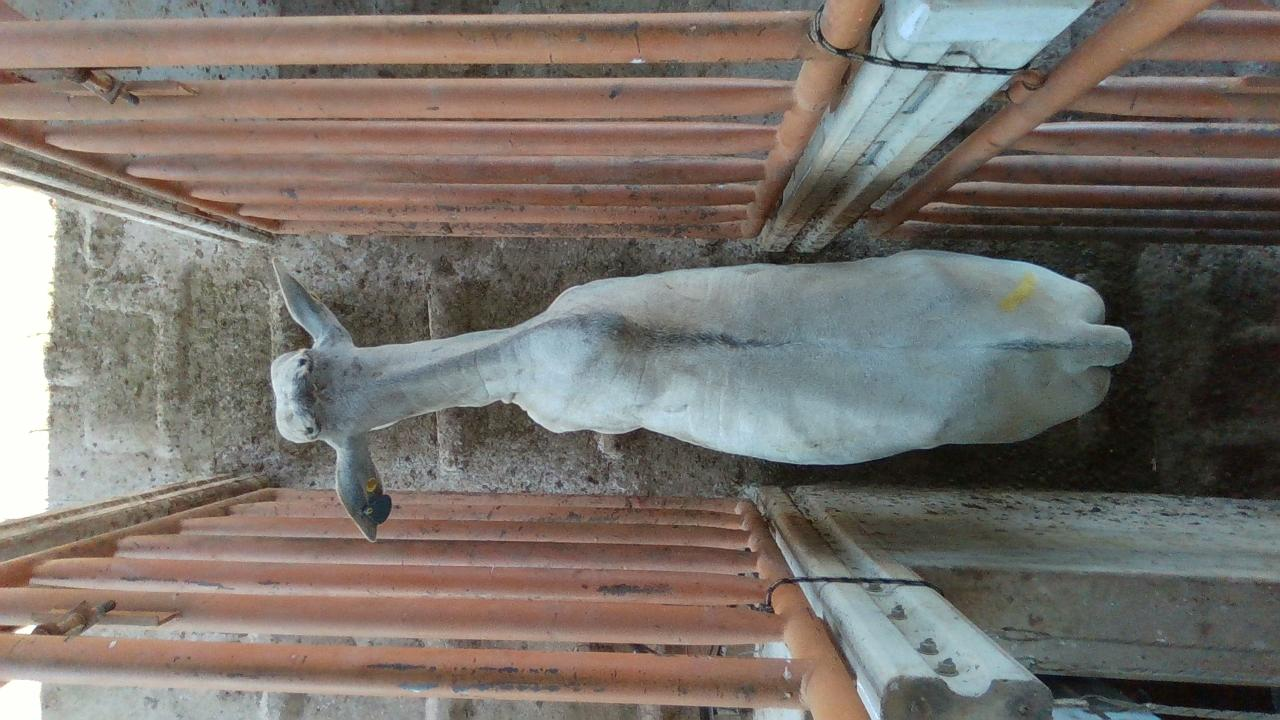cattle: (267, 246, 1133, 542)
